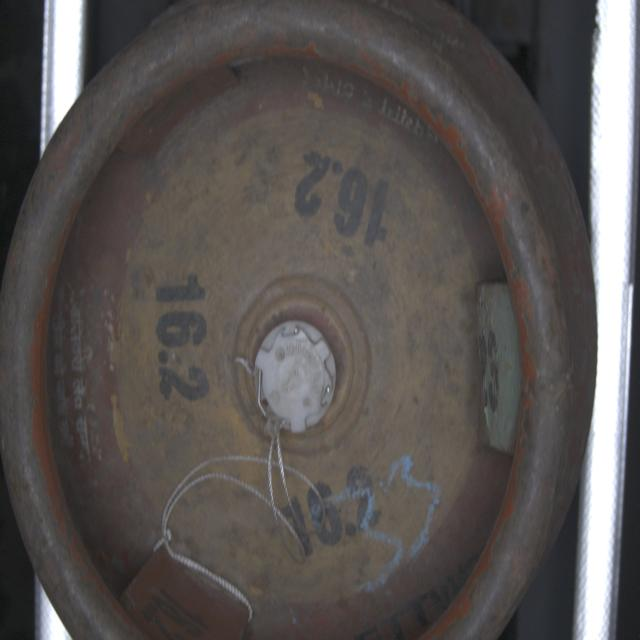Cap: (257, 317, 344, 436)
